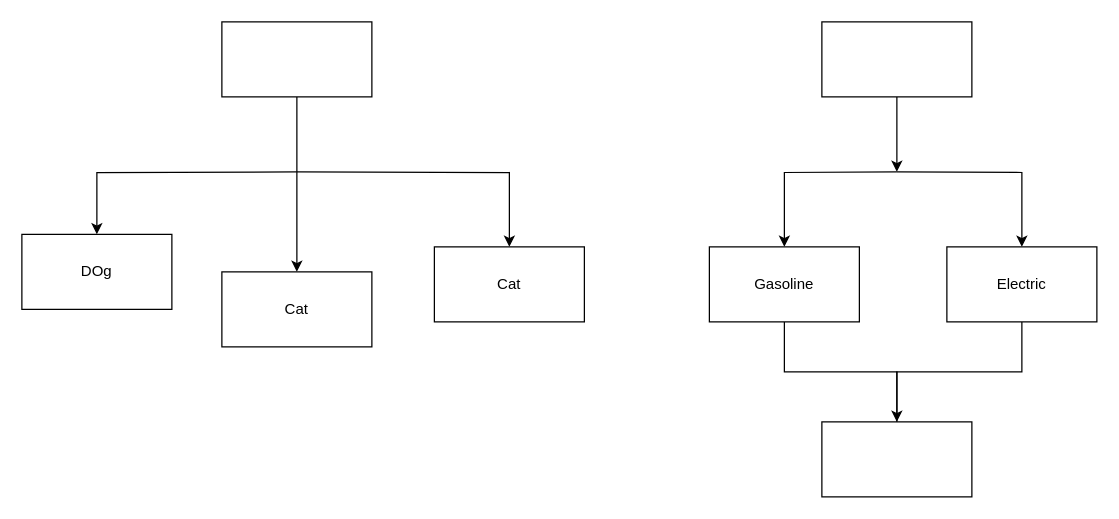
Some shapes in this 1119 by 519 pixel diagram are drawn without their labels. Each missing label, with the centre of its shape:
Animal: the point at 296,59
Cars: the point at 896,59
Hybrid: the point at 896,459
